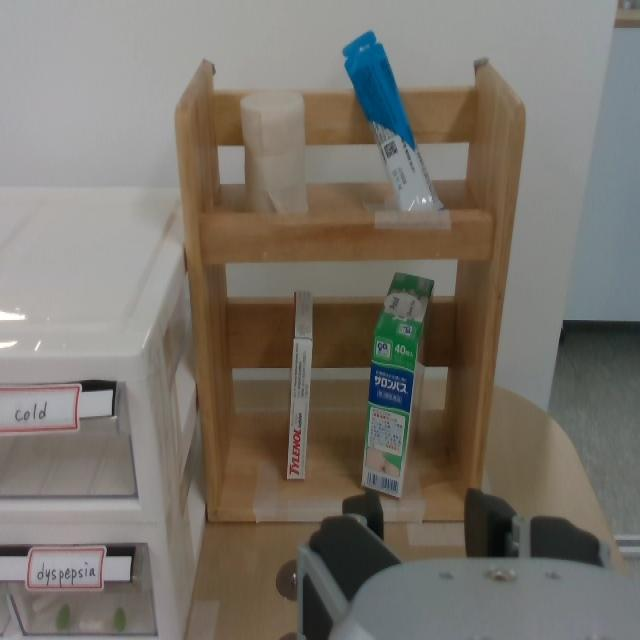bandage: (240, 90, 308, 214)
codaewon_syrup: (342, 28, 447, 212)
sore_patch: (361, 263, 432, 495)
tylenol: (288, 294, 314, 484)
